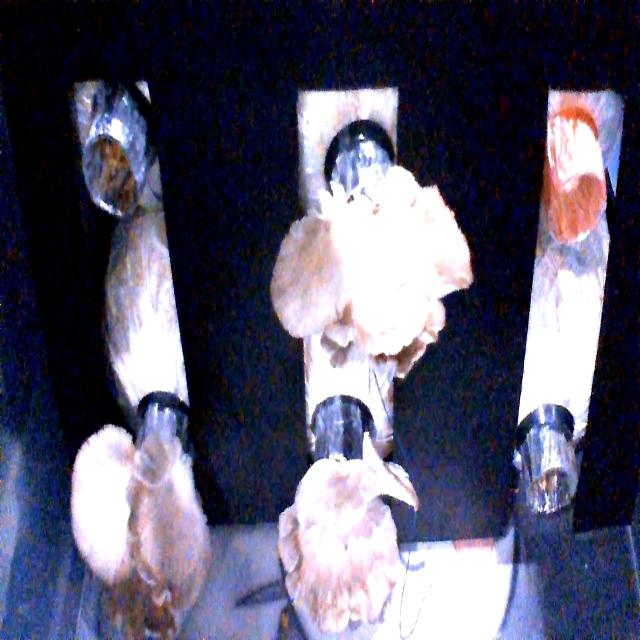big: (269, 195, 458, 363), (77, 418, 213, 610), (273, 467, 408, 632)
nfound: (73, 124, 149, 226), (542, 157, 606, 259), (519, 447, 579, 527)
